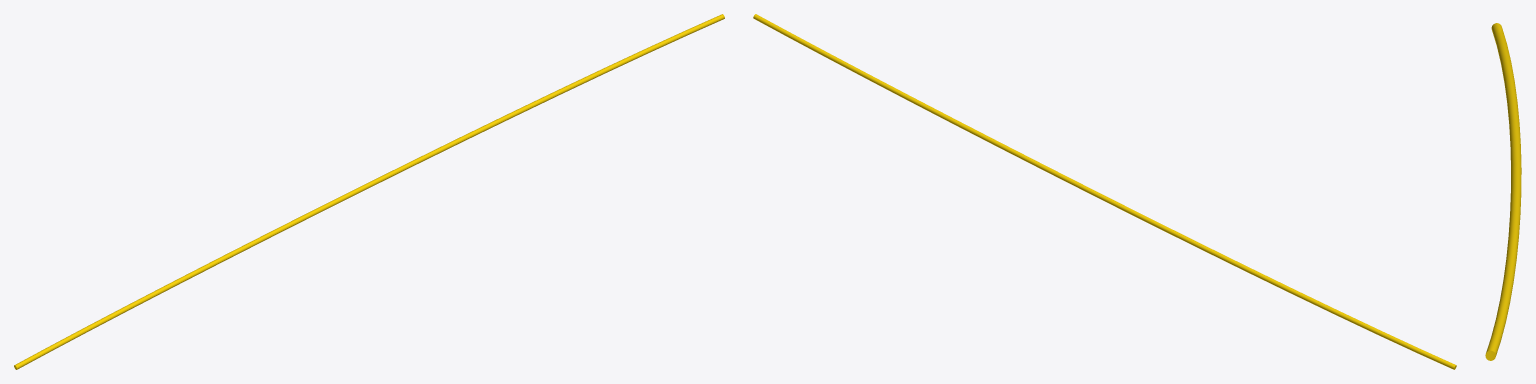
Rendered from Event_421115418_track_42.fbx.
3 views of the same model, side by side, from view 1: azimuth 30°, elevation 25°; view 2: azimuth 150°, elevation 25°; view 3: azimuth 270°, elevation 25° (orthographic). The views are drawn at different scales.
Visible parts, largest first — view 1: Model; view 2: Model; view 3: Model.
Part boxes in pixels (bbox=[...]): Model: bbox=[14, 14, 724, 369]; Model: bbox=[753, 14, 1456, 369]; Model: bbox=[1485, 23, 1521, 360].
Bounding box in the file's own units: 6.19 × 1.54 × 0.1376.
